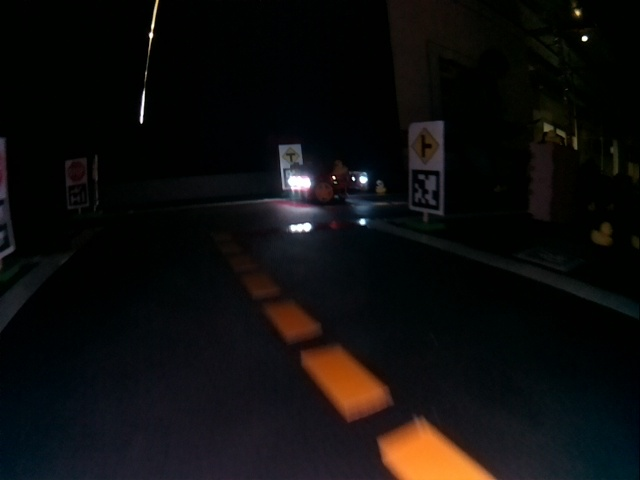Duckie: (592, 222, 612, 244), (334, 161, 346, 173), (376, 183, 386, 193)
Duckiebot: (289, 166, 352, 204)
Intersection sign: (409, 127, 442, 161), (280, 145, 303, 165)
QR code: (409, 167, 442, 211), (67, 183, 88, 208), (282, 169, 304, 189)
Stop sign: (67, 161, 86, 182)
